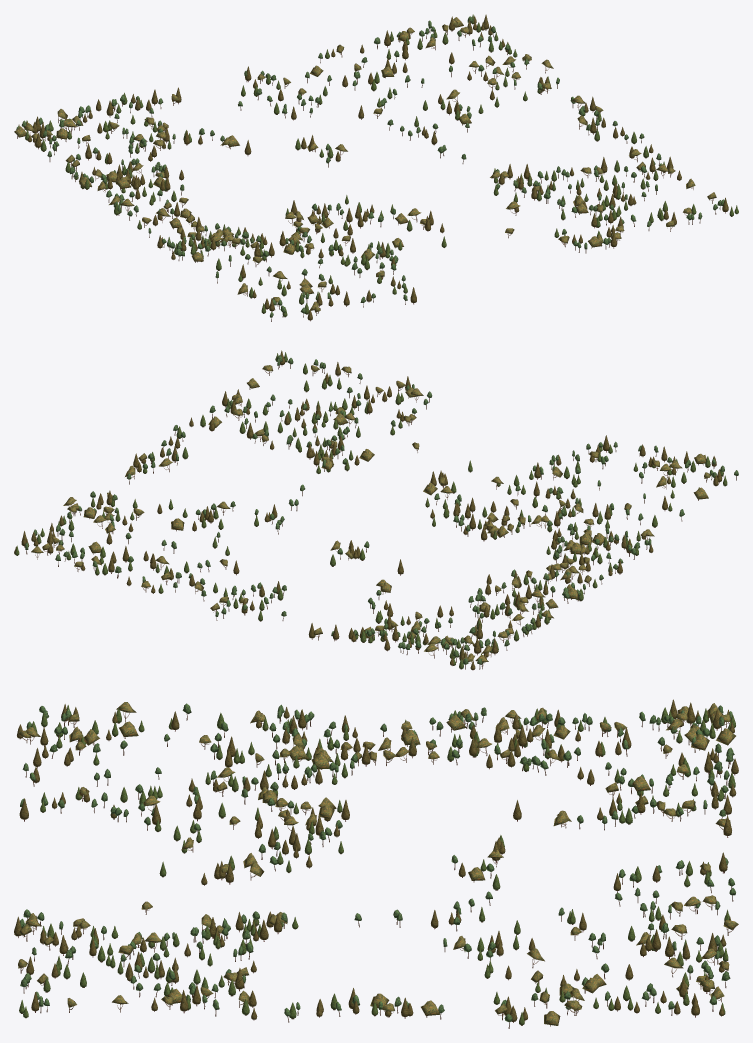
The model's file is woods.fbx.
The picture shows the model from 3 angles, top to bottom: view 1: azimuth 30°, elevation 25°; view 2: azimuth 150°, elevation 25°; view 3: azimuth 270°, elevation 25°; orthographic projection. The views are drawn at different scales.
Parts seen in each view (by area): view 1: TreeB6.207, TreeB6.213, TreeB5.213, TreeB4.207, TreeB3.205, TreeA4.210, TreeB6.216, TreeB3.133, TreeB5.208, TreeB3.206, TreeB2.202, TreeD1.204 (+2 smaller); view 2: TreeB6.207, TreeB6.213, TreeB5.213, TreeB4.207, TreeB3.205, TreeA4.210, TreeB3.133, TreeB6.216, TreeB5.208, TreeB2.202, TreeB3.206, TreeD1.204 (+2 smaller); view 3: TreeB6.207, TreeB6.213, TreeB5.213, TreeB4.207, TreeB3.205, TreeA4.210, TreeB6.216, TreeB3.133, TreeB5.208, TreeB2.202, TreeB3.206, TreeD1.204 (+4 smaller).
Boxes of the visible parts, <box> form: TreeB6.207: <box>14,87,251,191</box>; TreeB6.213: <box>167,200,371,270</box>; TreeB5.213: <box>554,144,681,250</box>; TreeB4.207: <box>318,14,517,91</box>; TreeB3.205: <box>106,170,225,248</box>; TreeA4.210: <box>215,264,375,321</box>; TreeB6.216: <box>311,195,446,250</box>; TreeB3.133: <box>577,178,738,253</box>; TreeB5.208: <box>490,164,569,238</box>; TreeB3.206: <box>238,65,331,120</box>; TreeB2.202: <box>449,52,559,94</box>; TreeD1.204: <box>318,242,416,304</box>; TreeB6.207: <box>308,559,558,670</box>; TreeB6.213: <box>481,481,657,565</box>; TreeB5.213: <box>189,389,416,449</box>; TreeB4.207: <box>14,511,194,593</box>; TreeB3.205: <box>486,549,622,603</box>; TreeA4.210: <box>633,444,738,521</box>; TreeB3.133: <box>247,350,432,409</box>; TreeB6.216: <box>423,460,520,536</box>; TreeB5.208: <box>286,433,419,473</box>; TreeB2.202: <box>63,490,144,544</box>; TreeB3.206: <box>194,578,286,621</box>; TreeD1.204: <box>513,435,617,490</box>; TreeB6.207: <box>505,699,738,837</box>; TreeB6.213: <box>186,704,349,833</box>; TreeB5.213: <box>59,918,257,1020</box>; TreeB4.207: <box>593,901,738,1017</box>; TreeB3.205: <box>340,707,510,778</box>; TreeA4.210: <box>17,702,191,786</box>; TreeB6.216: <box>159,815,343,885</box>; TreeB3.133: <box>14,909,128,1018</box>; TreeB5.208: <box>141,901,298,961</box>; TreeB2.202: <box>495,963,633,1028</box>; TreeB3.206: <box>613,852,735,922</box>; TreeD1.204: <box>19,767,180,841</box>.
Bounding box in the file's own units: 106968 × 8002 × 104419.
